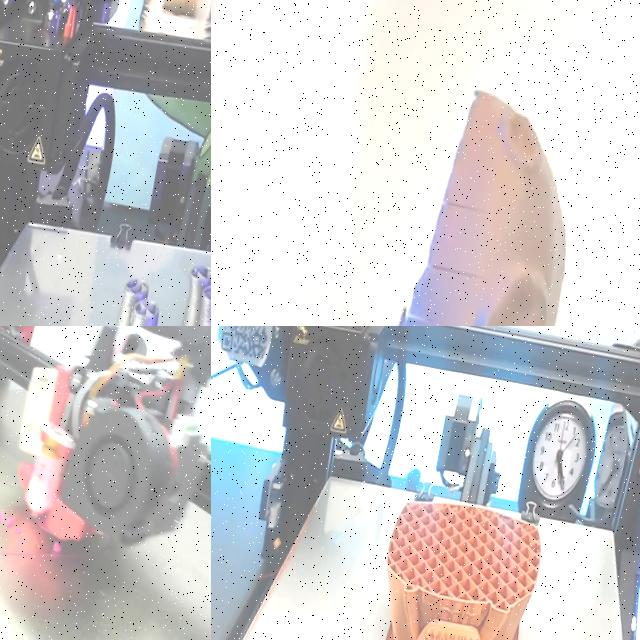spaghetti: (0, 550, 59, 559), (0, 512, 15, 527)
